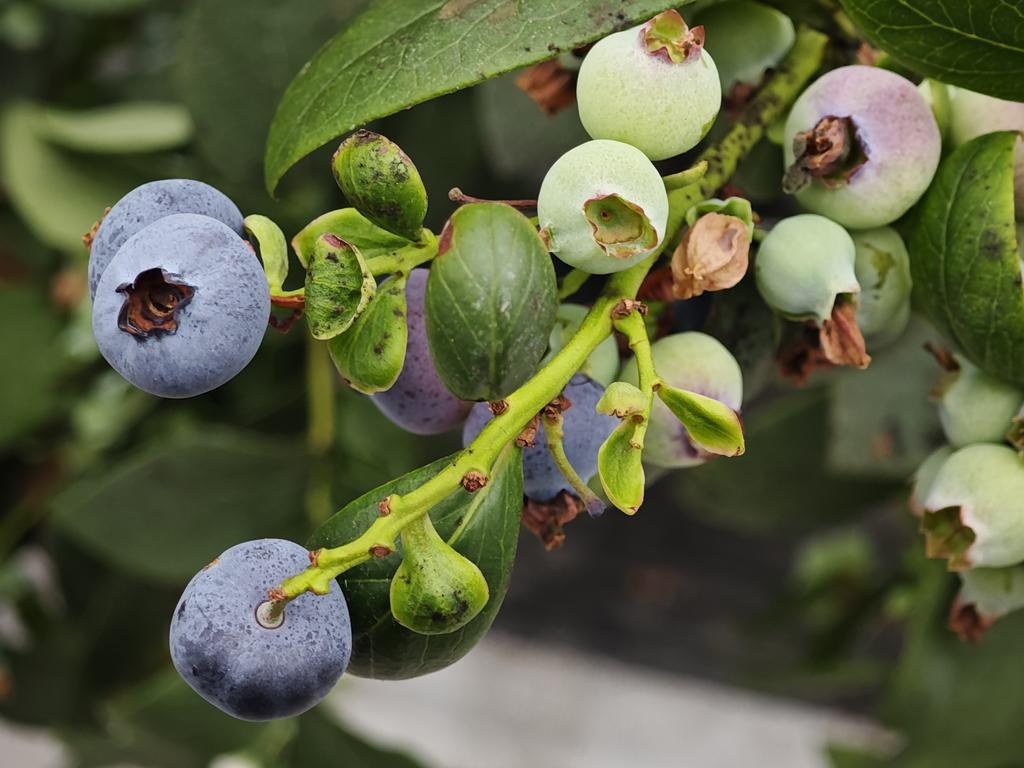RipeBlueBerry: (91, 214, 274, 399), (170, 538, 350, 720)
Semi-RipeBlueBerry: (783, 51, 937, 214)
UnripeBlueBerry: (578, 21, 723, 157), (536, 132, 664, 271), (754, 213, 862, 321)
